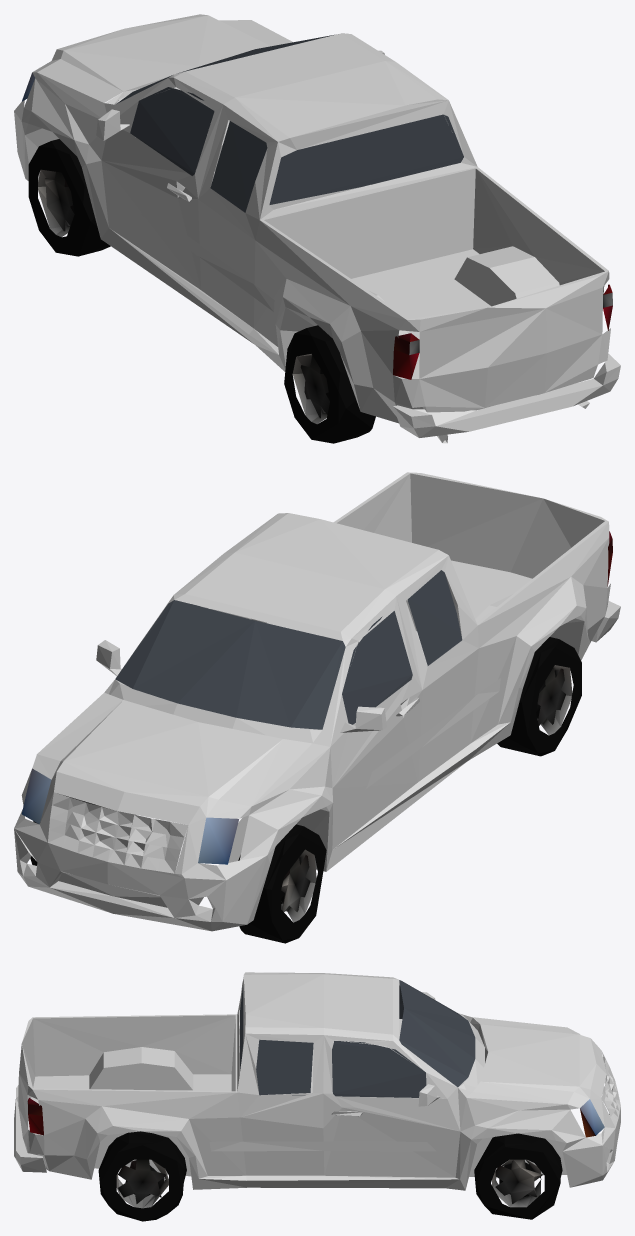
File: v2-pickup-parked.glb
3 renders of one model, top to bottom at view 1: azimuth 30°, elevation 25°; view 2: azimuth 150°, elevation 25°; view 3: azimuth 270°, elevation 25°, orthographic. The views are drawn at different scales.
Size of the model in its own units: 2.11 by 1.71 by 5.28.
